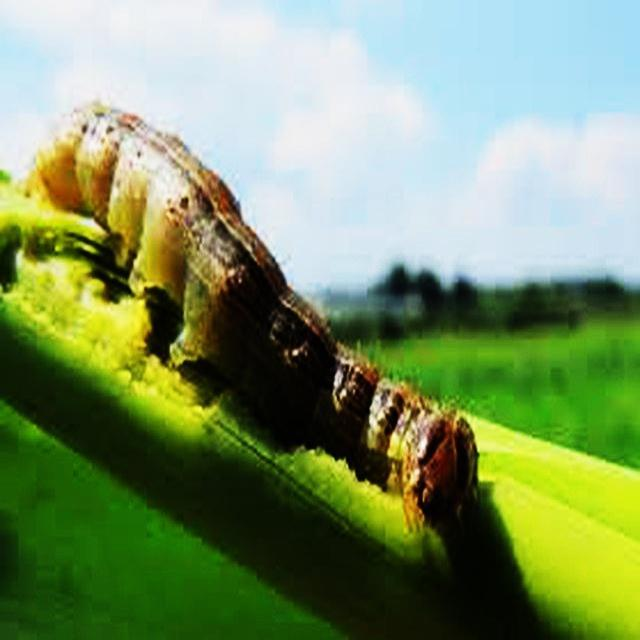Plaga: (19, 91, 485, 535)
